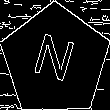N_S: (30, 31, 81, 90)
